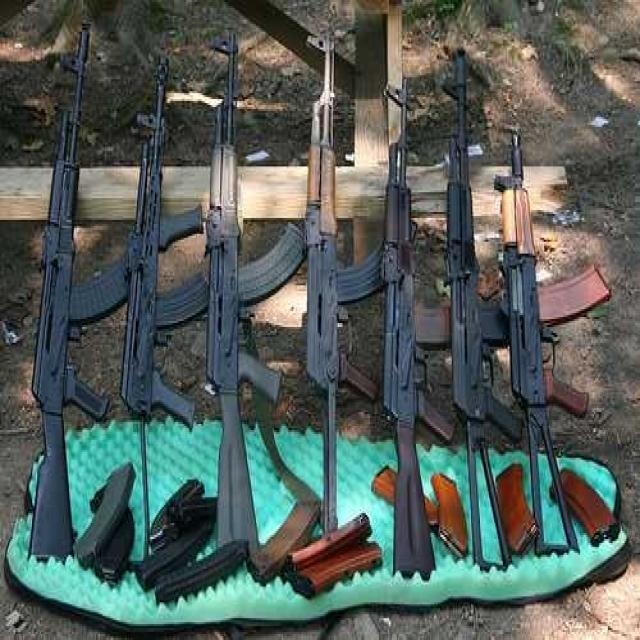weapon: (25, 16, 138, 596), (489, 99, 612, 624), (274, 12, 396, 537), (197, 20, 306, 559), (357, 71, 463, 608), (120, 19, 212, 584), (440, 30, 525, 572)
